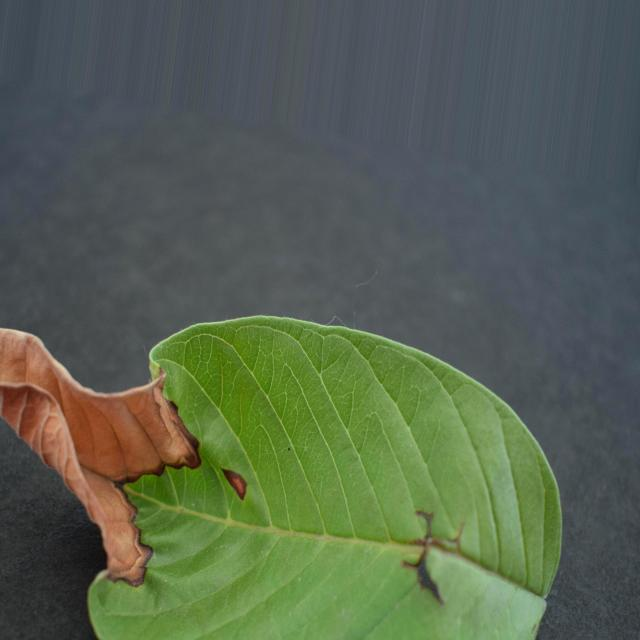Mummification: (0, 317, 561, 639)
